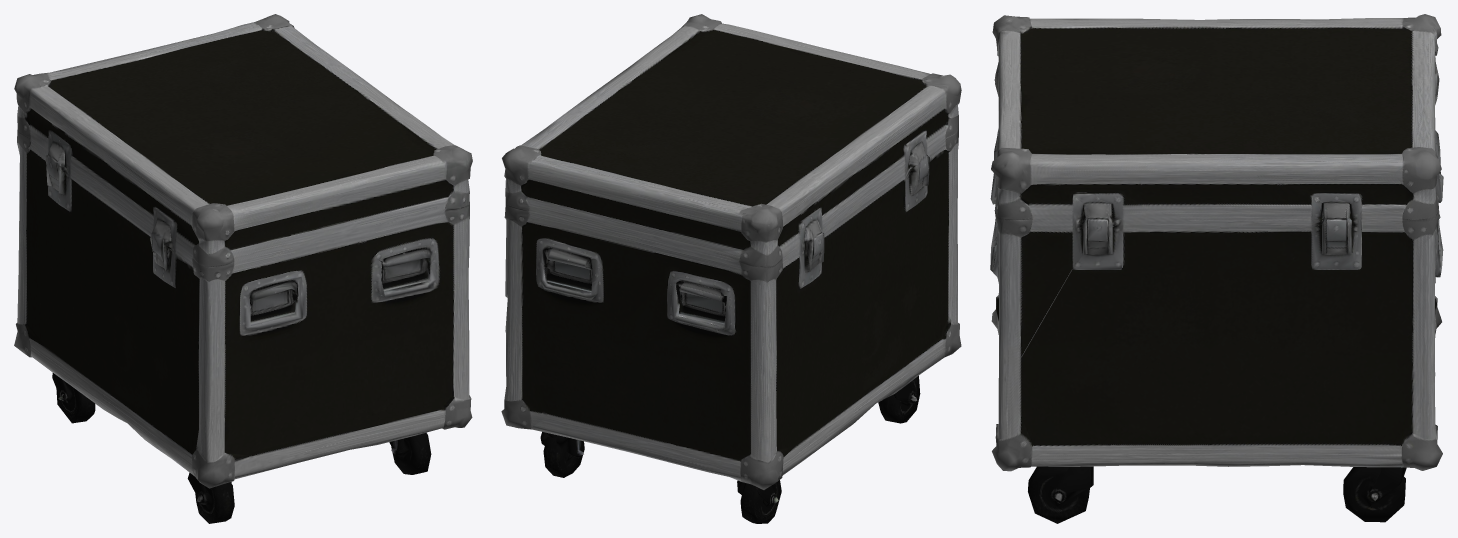
Rendered from flight_case_3d_model.fbx.
3 renders of one model, left to right at view 1: azimuth 30°, elevation 25°; view 2: azimuth 150°, elevation 25°; view 3: azimuth 270°, elevation 25°, orthographic. The views are drawn at different scales.
Parts seen in each view (by area): view 1: tripo_node_b72ff28b; view 2: tripo_node_b72ff28b; view 3: tripo_node_b72ff28b.
Boxes of the visible parts, box(x1,y1,x2,y2) form: tripo_node_b72ff28b: box(14, 14, 472, 523); tripo_node_b72ff28b: box(501, 14, 961, 523); tripo_node_b72ff28b: box(990, 14, 1443, 523).
Size of the model in its own units: 0.8056 by 0.912 by 0.9814.
